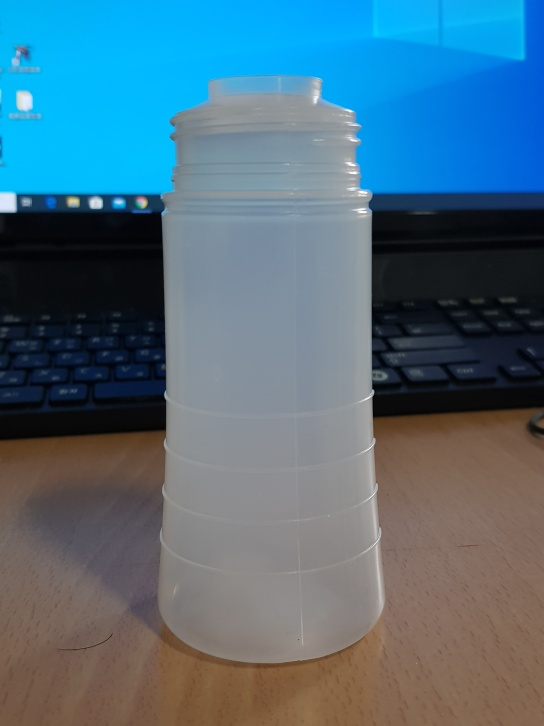Plastic: (154, 73, 385, 666)
